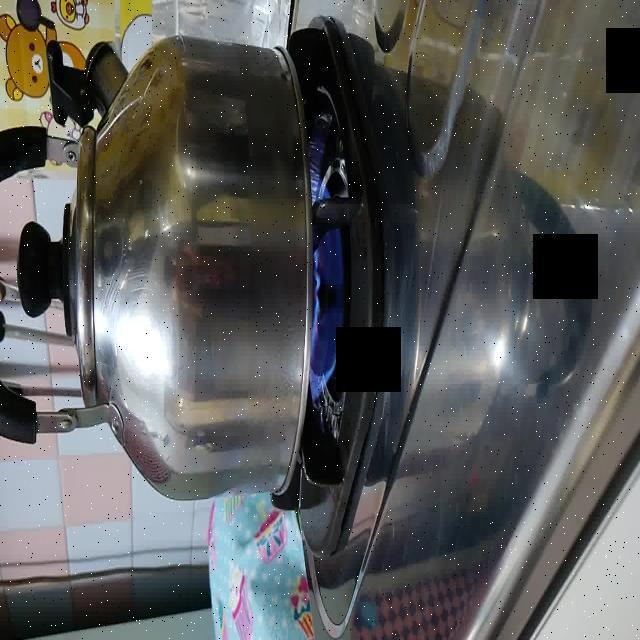Flame: (311, 170, 341, 406)
Pan: (0, 33, 315, 486)
